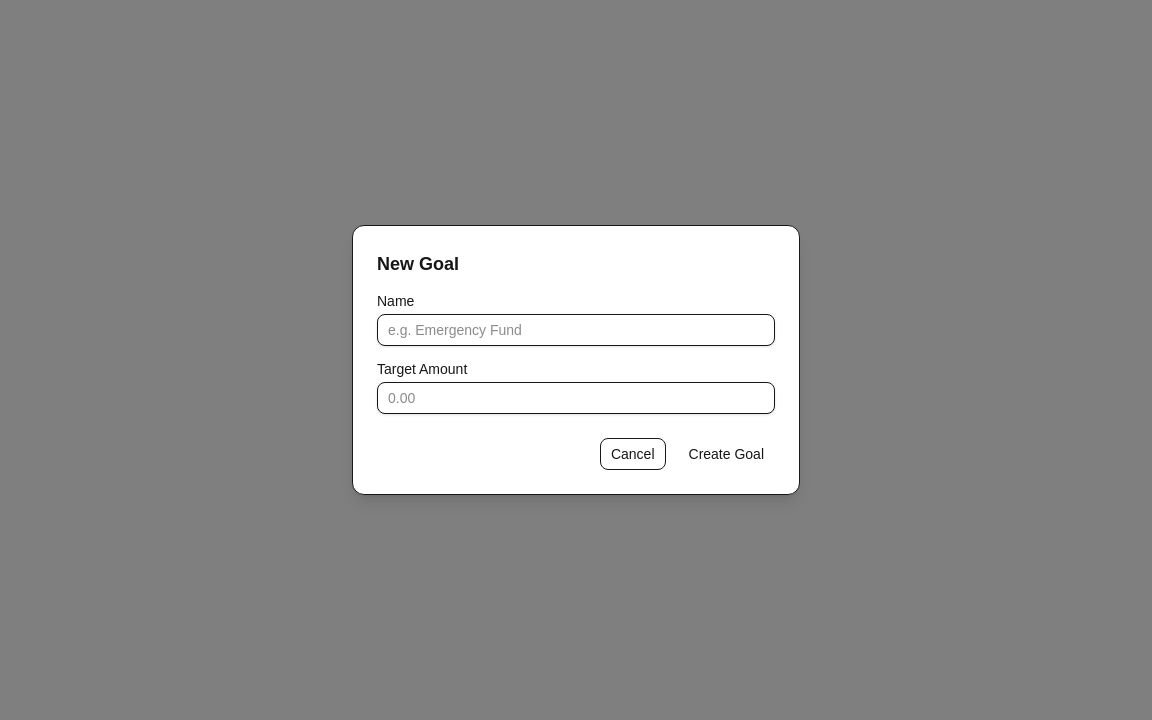
Test case: NewSavingsGoalDialog › Validation: target must be a positive number › shows a target amount error when target is zero
Step 1. Type "My Goal" into the field labelled "Name" → point(576, 330), box [377, 314, 775, 346]
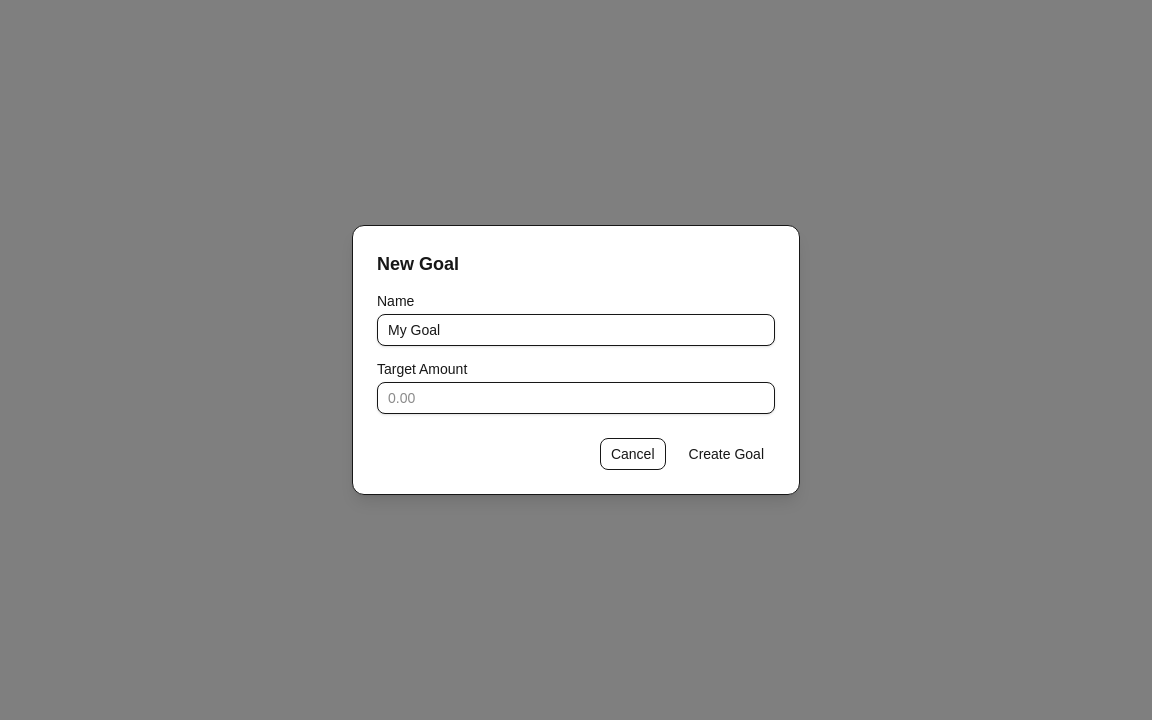
Step 2. Type "0" into the number field labelled "Target Amount" → point(576, 398), box [377, 382, 775, 414]
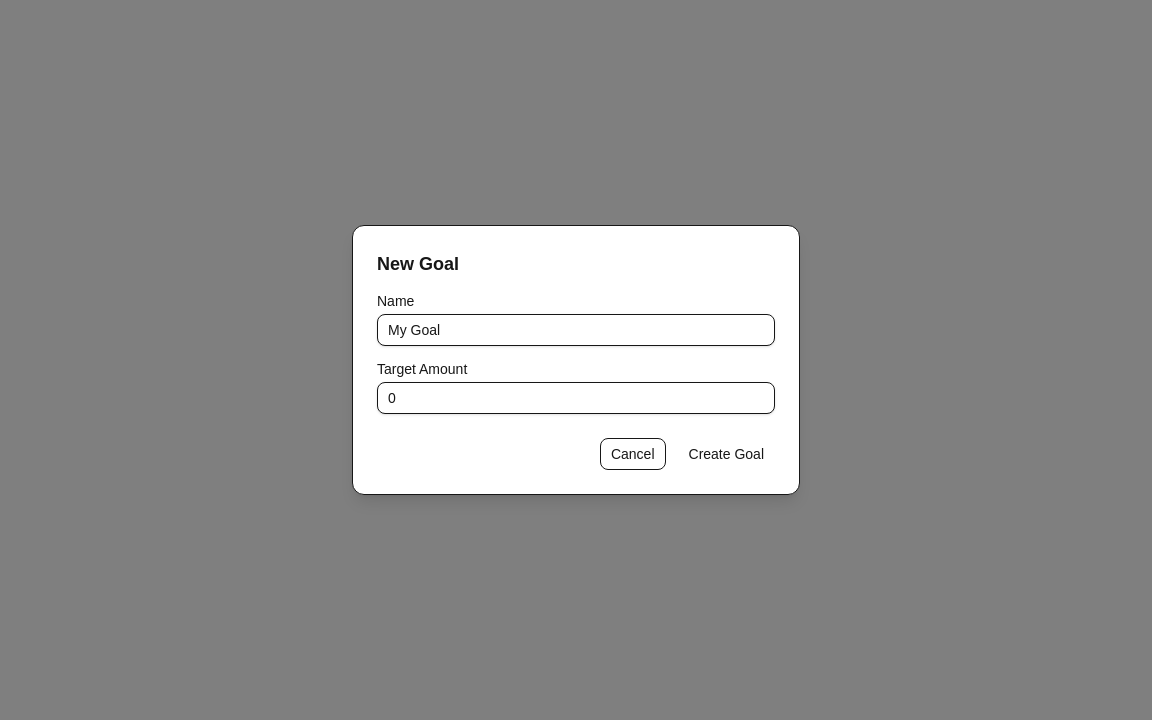
Step 3. Submit the form, box [377, 294, 775, 470]
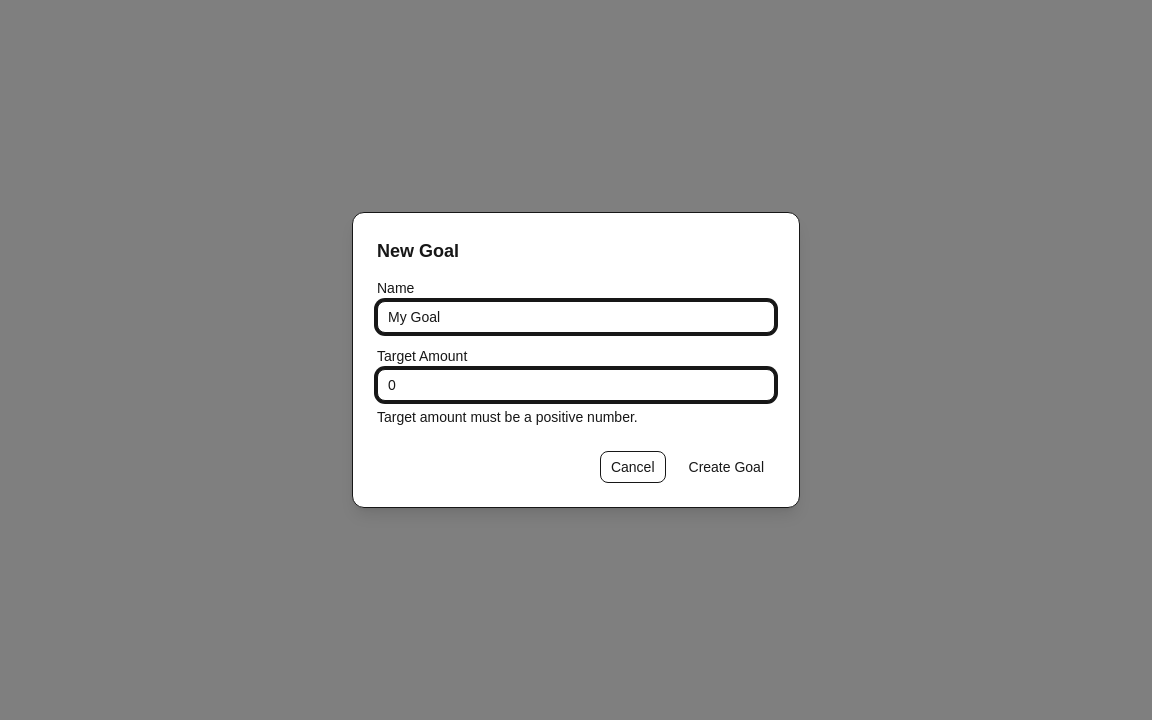
Now the text "Target amount must be a positive number." is shown, box [377, 409, 638, 425]
